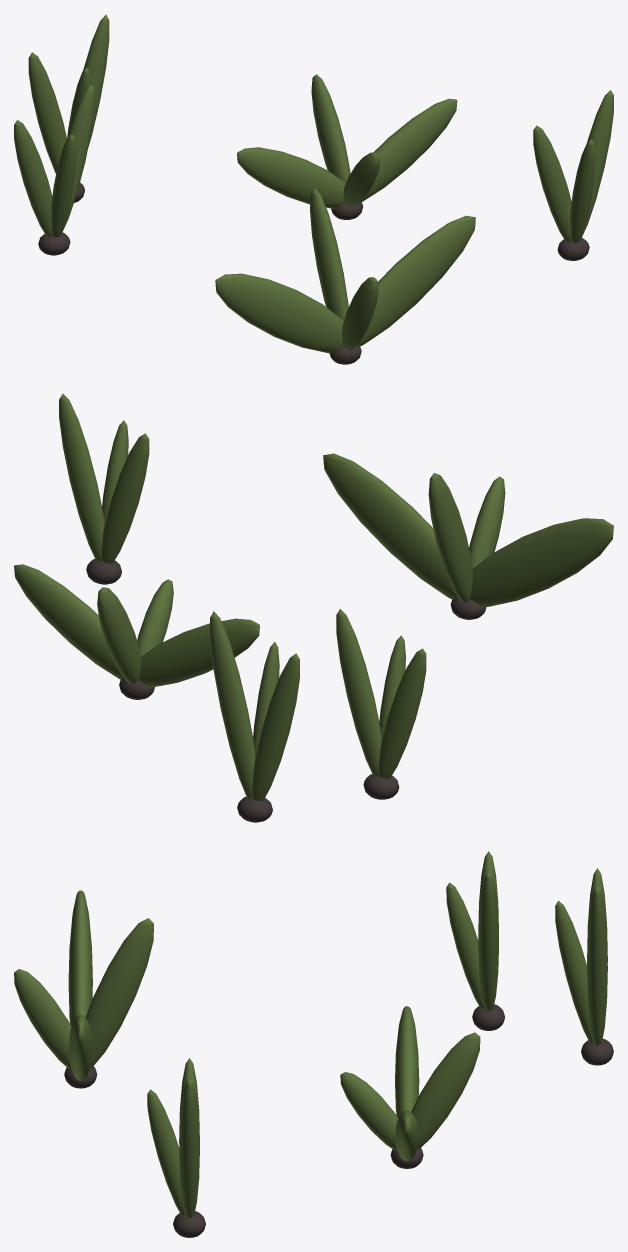
File: CMU3DRMCGrassb2.glb
3 renders of one model, top to bottom at view 1: azimuth 30°, elevation 25°; view 2: azimuth 150°, elevation 25°; view 3: azimuth 270°, elevation 25°, orthographic. The views are drawn at different scales.
Parts seen in each view (by area): view 1: tuft 4 continuous leaf 0, tuft 4 continuous leaf 1, tuft 2 continuous leaf 0, tuft 2 continuous leaf 1, tuft 4 continuous leaf 2, tuft 0 continuous leaf 0, tuft 1 continuous leaf 0, tuft 3 continuous leaf 0, tuft 2 continuous leaf 2, tuft 3 continuous leaf 2, tuft 1 continuous leaf 2, tuft 4 continuous leaf 3 (+7 smaller); view 2: tuft 4 continuous leaf 0, tuft 4 continuous leaf 1, tuft 2 continuous leaf 1, tuft 2 continuous leaf 0, tuft 0 continuous leaf 1, tuft 1 continuous leaf 1, tuft 3 continuous leaf 1, tuft 0 continuous leaf 0, tuft 4 continuous leaf 2, tuft 3 continuous leaf 0, tuft 1 continuous leaf 0, tuft 2 continuous leaf 2 (+8 smaller); view 3: tuft 4 continuous leaf 2, tuft 2 continuous leaf 2, tuft 0 continuous leaf 1, tuft 4 continuous leaf 3, tuft 4 continuous leaf 0, tuft 3 continuous leaf 1, tuft 1 continuous leaf 1, tuft 0 continuous leaf 2, tuft 2 continuous leaf 0, tuft 2 continuous leaf 3, tuft 1 continuous leaf 2, tuft 3 continuous leaf 2 (+5 smaller).
Boxes of the visible parts, bbox=[...] form: tuft 4 continuous leaf 0: bbox=[215, 273, 343, 353]; tuft 4 continuous leaf 1: bbox=[358, 215, 475, 346]; tuft 2 continuous leaf 0: bbox=[237, 147, 345, 208]; tuft 2 continuous leaf 1: bbox=[361, 98, 457, 201]; tuft 4 continuous leaf 2: bbox=[310, 188, 348, 321]; tuft 0 continuous leaf 0: bbox=[28, 52, 66, 173]; tuft 1 continuous leaf 0: bbox=[14, 120, 52, 236]; tuft 3 continuous leaf 0: bbox=[533, 125, 571, 242]; tuft 2 continuous leaf 2: bbox=[311, 74, 350, 183]; tuft 3 continuous leaf 2: bbox=[570, 139, 595, 242]; tuft 1 continuous leaf 2: bbox=[51, 134, 76, 237]; tuft 4 continuous leaf 3: bbox=[342, 277, 378, 350]; tuft 4 continuous leaf 0: bbox=[470, 518, 613, 606]; tuft 4 continuous leaf 1: bbox=[323, 453, 457, 599]; tuft 2 continuous leaf 1: bbox=[14, 564, 123, 679]; tuft 2 continuous leaf 0: bbox=[139, 618, 259, 687]; tuft 0 continuous leaf 1: bbox=[210, 611, 255, 798]; tuft 1 continuous leaf 1: bbox=[336, 609, 381, 776]; tuft 3 continuous leaf 1: bbox=[59, 393, 104, 560]; tuft 0 continuous leaf 0: bbox=[252, 653, 299, 801]; tuft 4 continuous leaf 2: bbox=[428, 473, 472, 602]; tuft 3 continuous leaf 0: bbox=[101, 433, 149, 563]; tuft 1 continuous leaf 0: bbox=[378, 648, 426, 778]; tuft 2 continuous leaf 2: bbox=[97, 587, 141, 683]; tuft 4 continuous leaf 2: bbox=[85, 918, 153, 1067]; tuft 2 continuous leaf 2: bbox=[411, 1032, 480, 1148]; tuft 0 continuous leaf 1: bbox=[587, 886, 607, 1045]; tuft 4 continuous leaf 3: bbox=[14, 969, 71, 1068]; tuft 4 continuous leaf 0: bbox=[68, 890, 92, 1026]; tuft 3 continuous leaf 1: bbox=[179, 1078, 199, 1217]; tuft 1 continuous leaf 1: bbox=[478, 871, 498, 1011]; tuft 0 continuous leaf 2: bbox=[555, 900, 592, 1042]; tuft 2 continuous leaf 0: bbox=[395, 1006, 419, 1118]; tuft 2 continuous leaf 3: bbox=[340, 1072, 398, 1149]; tuft 1 continuous leaf 2: bbox=[446, 882, 483, 1008]; tuft 3 continuous leaf 2: bbox=[147, 1089, 184, 1215].
Size of the model in its own units: 0.6797 by 0.2506 by 0.6895.
